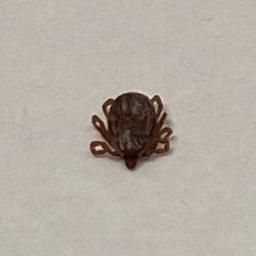Rhipicephalus sanguineus: (89, 92, 172, 169)
